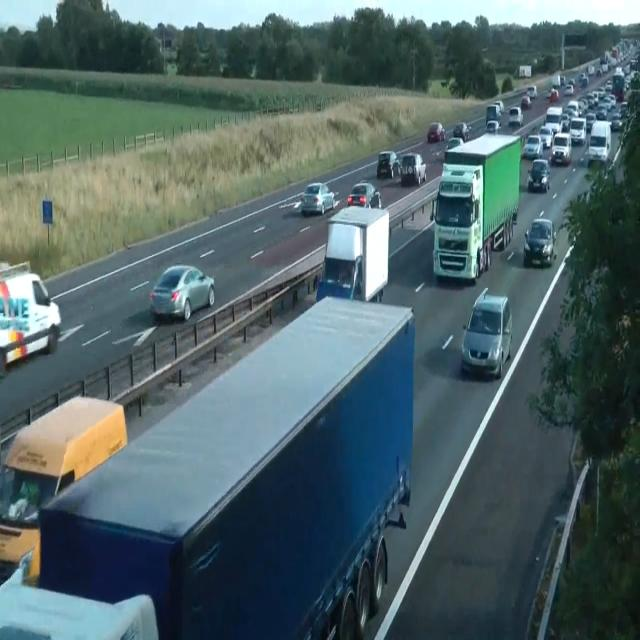bus: (461, 287, 513, 380), (149, 264, 215, 322), (524, 217, 556, 267), (300, 181, 334, 215), (346, 181, 382, 209), (527, 158, 550, 192), (538, 124, 554, 148), (427, 122, 445, 143), (453, 122, 471, 141), (508, 106, 523, 126), (445, 137, 463, 151), (484, 119, 500, 133), (610, 113, 622, 131), (526, 84, 537, 100), (520, 95, 532, 109), (546, 87, 558, 101), (495, 99, 504, 113), (564, 84, 574, 96)
car: (0, 393, 128, 584)
jeep: (0, 265, 61, 368), (587, 119, 611, 166), (399, 152, 426, 185), (550, 130, 572, 164), (376, 149, 398, 179), (522, 133, 543, 159), (568, 115, 586, 145)
minibus: (35, 294, 416, 639), (431, 132, 522, 282), (316, 205, 390, 303), (519, 64, 531, 77)
